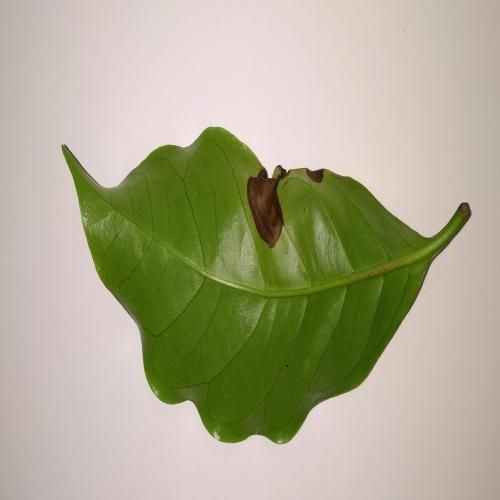miner: (247, 160, 292, 247)
